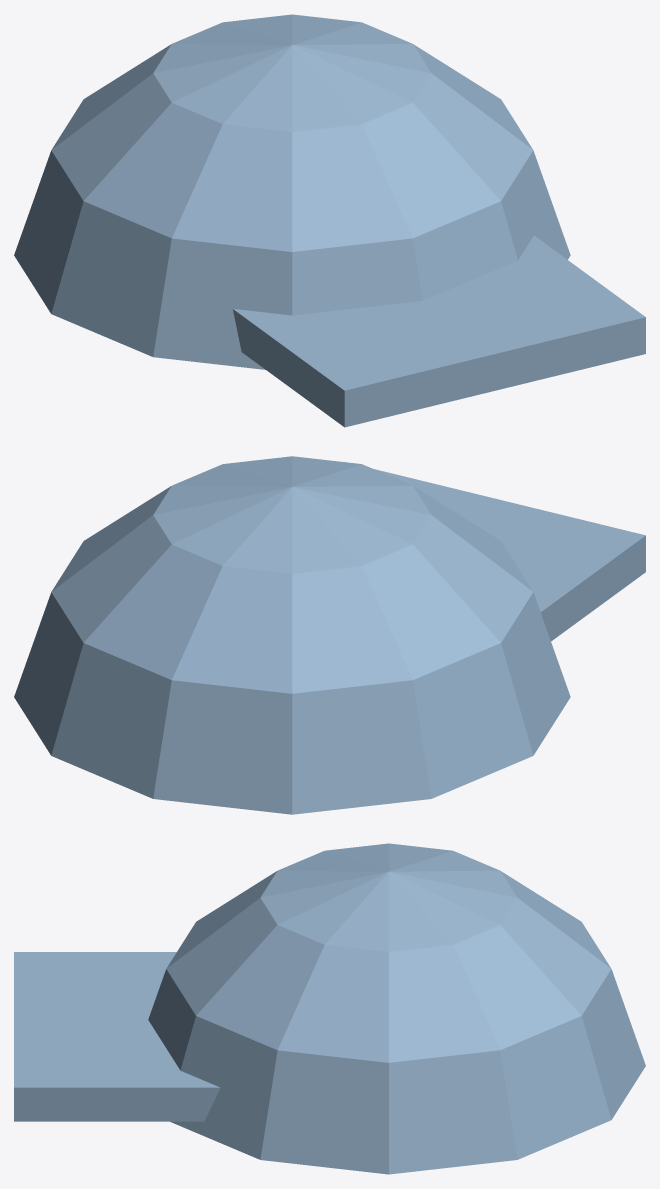
The model's file is acc_cap.glb.
3 renders of one model, top to bottom at view 1: azimuth 30°, elevation 25°; view 2: azimuth 150°, elevation 25°; view 3: azimuth 270°, elevation 25°, orthographic. The views are drawn at different scales.
Visible parts, largest first — view 1: acc_cap; view 2: acc_cap; view 3: acc_cap.
Part boxes in pixels (left/top/right/bottom): acc_cap: left=14, top=14, right=645, bottom=427; acc_cap: left=14, top=456, right=645, bottom=814; acc_cap: left=14, top=843, right=645, bottom=1174.
Bounding box in the file's own units: 0.48 × 0.2 × 0.59.
